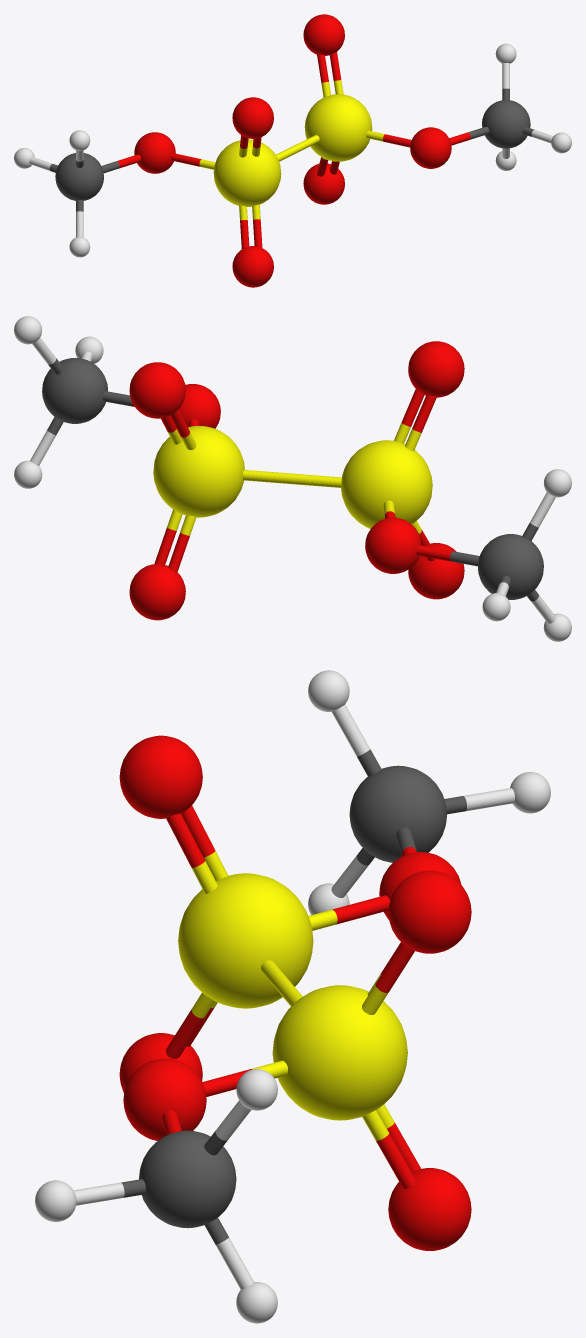
The model's file is dimethyl_dithionate.fbx.
3 views of the same model, one above another, from view 1: azimuth 30°, elevation 25°; view 2: azimuth 150°, elevation 25°; view 3: azimuth 270°, elevation 25° (orthographic). The views are drawn at different scales.
Visible parts, largest first — view 1: S01, S02, C05, C09, O03, O15, O16, O13, O04, O14, S02=O16, S01=O13 (+6 smaller); view 2: S01, S02, C05, C09, O13, O15, O14, O04, O16, O03, S01=O14, S02=O15 (+12 smaller); view 3: S01, S02, C05, C09, O13, O15, O14, O03, S02=O15, S01=O14, O16, O04 (+17 smaller).
Part boxes in pixels (x1,y1,x2,y2): S01: (304, 94, 372, 161); S02: (213, 139, 281, 206); C05: (482, 100, 530, 148); C09: (55, 153, 103, 200); O03: (410, 127, 451, 168); O15: (232, 97, 273, 138); O16: (232, 246, 273, 287); O13: (303, 14, 344, 55); O04: (134, 132, 175, 173); O14: (303, 163, 344, 204); S02=O16: (239, 204, 262, 249); S01=O13: (317, 52, 343, 97); S01: (153, 426, 244, 517); S02: (341, 440, 432, 528); C05: (42, 358, 107, 423); C09: (478, 534, 543, 599); O13: (129, 362, 185, 418); O15: (408, 341, 464, 397); O14: (129, 564, 185, 620); O04: (365, 517, 421, 573); O16: (408, 543, 464, 599); O03: (178, 384, 220, 428); S01=O14: (154, 509, 196, 573); S02=O15: (394, 389, 436, 451); S01: (272, 985, 407, 1120); S02: (178, 873, 313, 1008); C05: (139, 1130, 236, 1228); C09: (349, 765, 446, 862); O13: (388, 870, 471, 953); O15: (119, 735, 202, 818); O14: (388, 1168, 471, 1250); O03: (123, 1058, 206, 1140); S02=O15: (166, 805, 228, 893); S01=O14: (362, 1104, 421, 1188); O16: (119, 1033, 202, 1092); O04: (379, 852, 461, 919).
Size of the model in its own units: 775 by 316 by 396.
